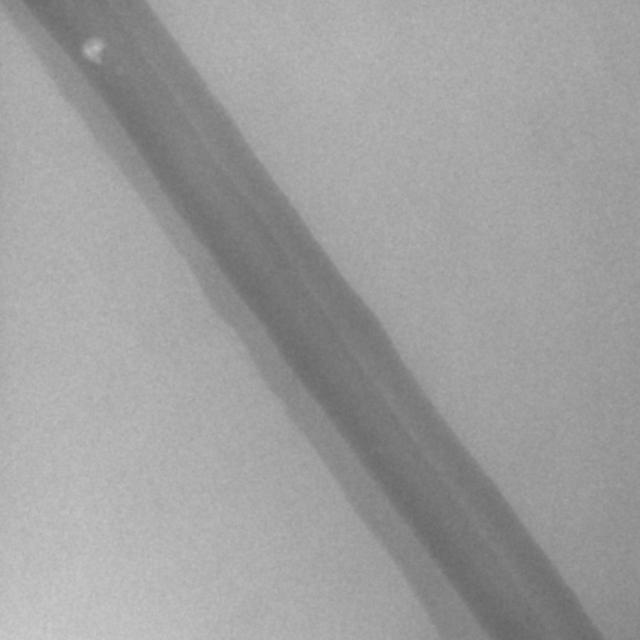slag inclusion: (80, 38, 106, 65)
